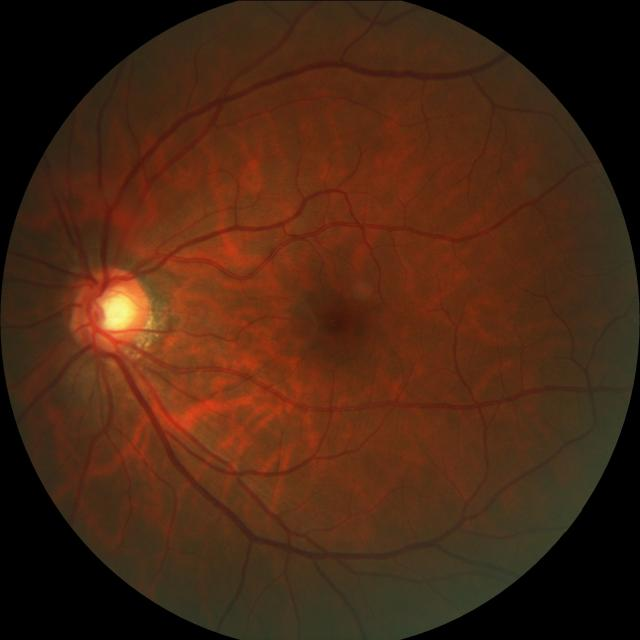OC: (90, 286, 137, 334)
OD: (71, 266, 149, 352)
